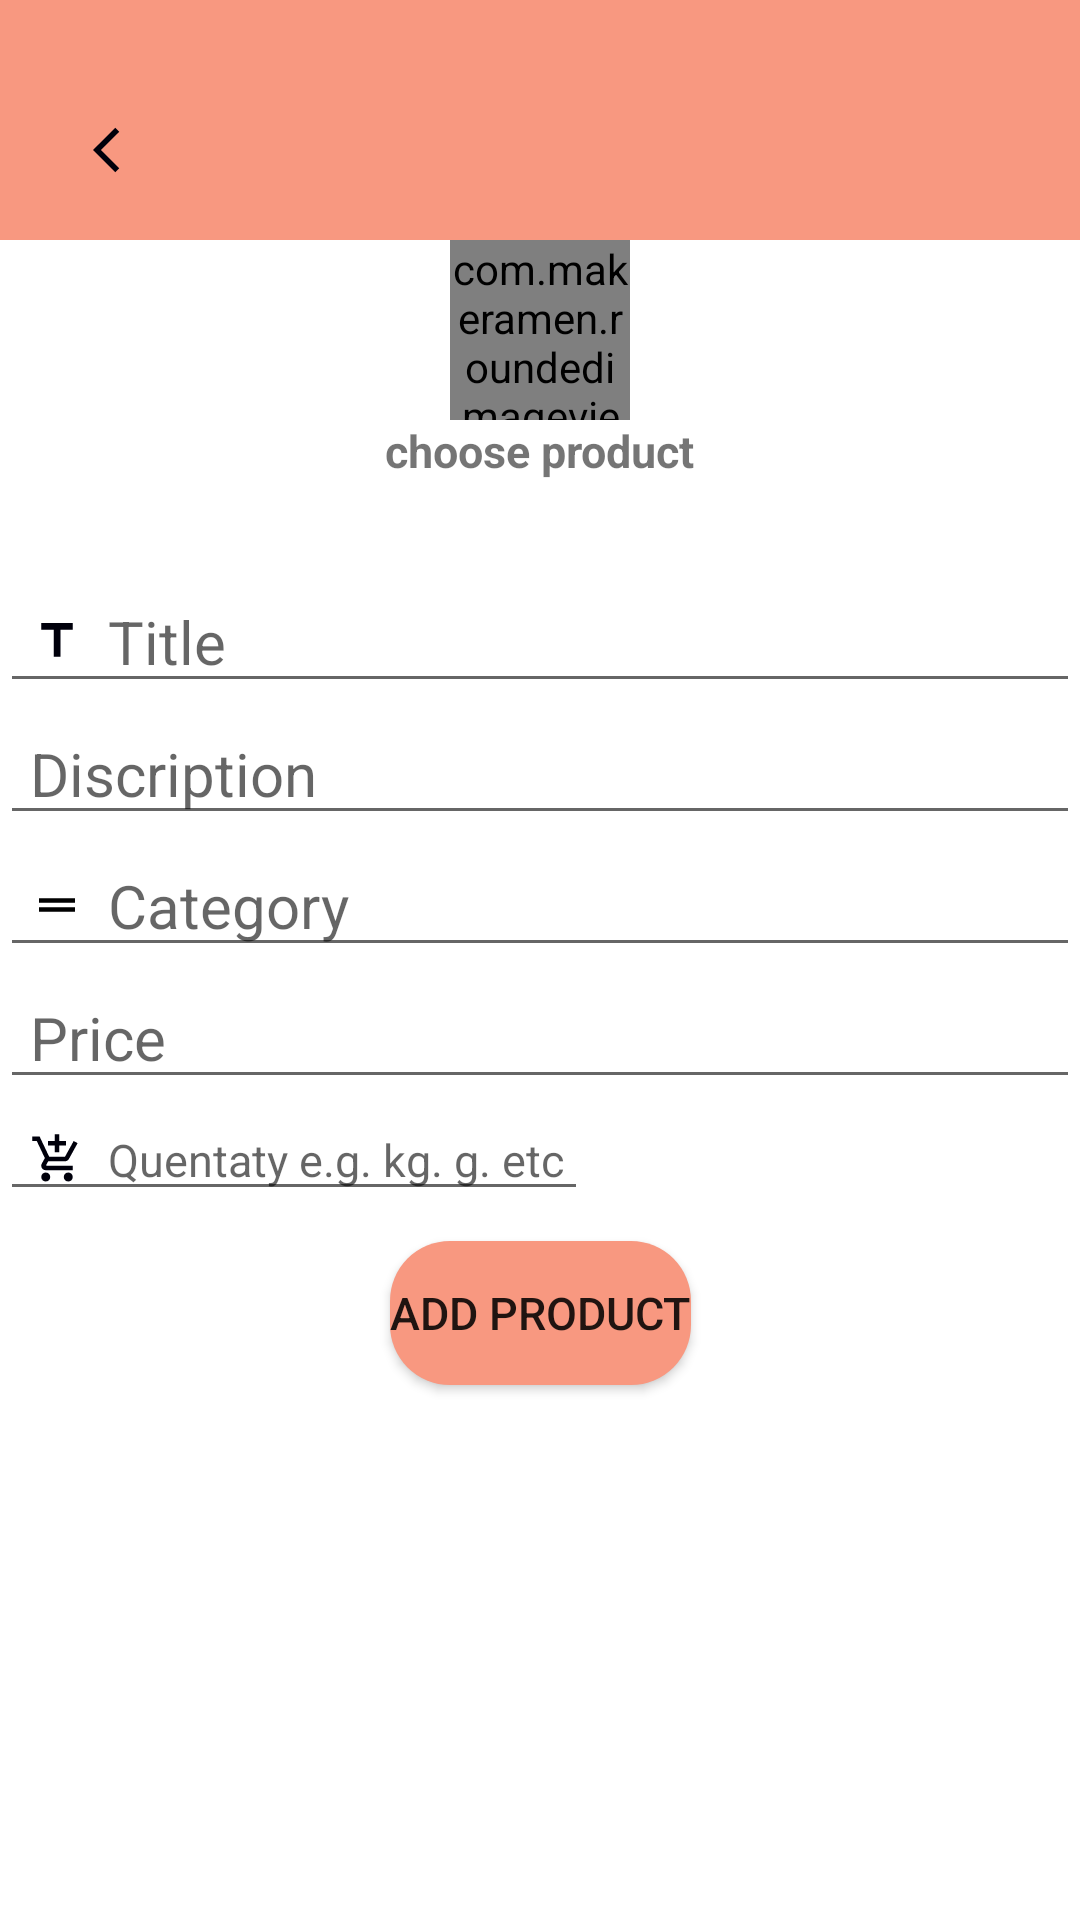

Locate icon controls on the screen. Image size 1080w x 1920h, boxes as (x1, y1, x2, y2).
back: (93, 128, 119, 172)
